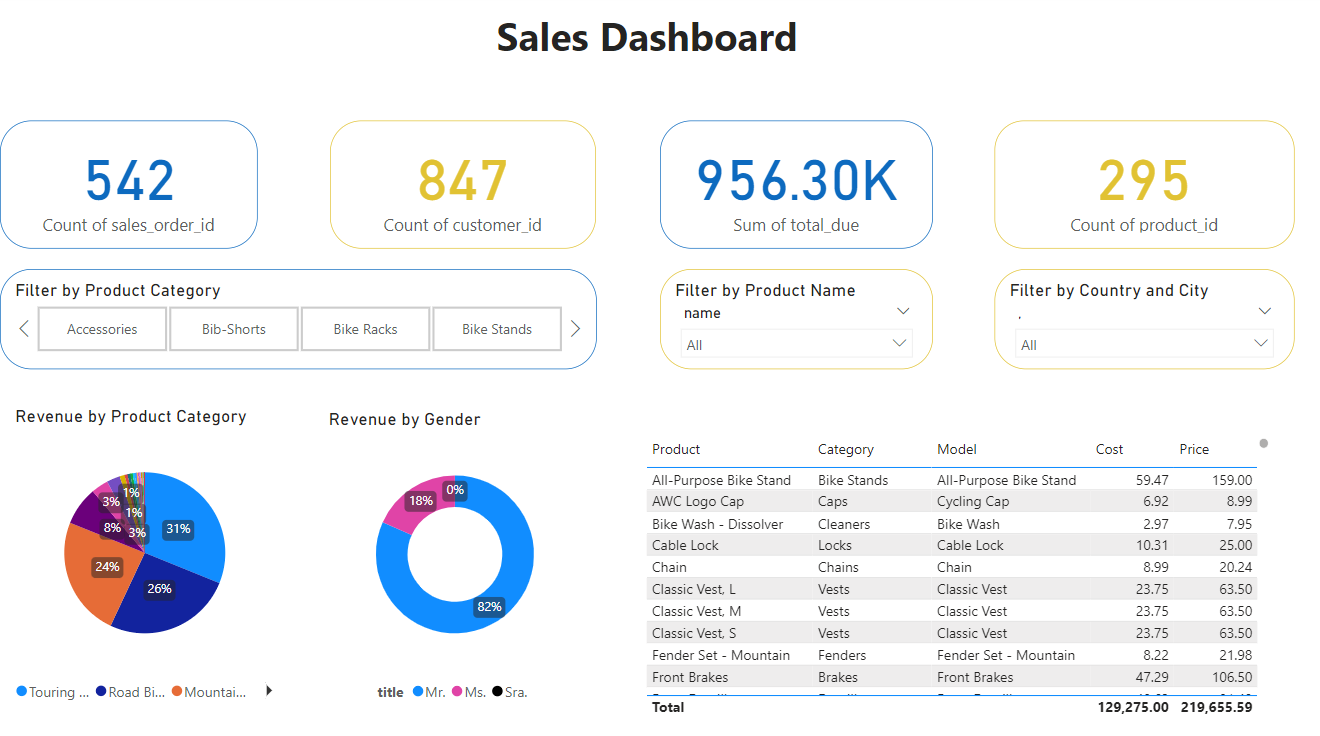

Layout of this report page (visuals, bound fields, positions):
{"tool":"powerbi","page":{"name":"Page 1","canvas":[1280,720],"ordinal":0},"visuals":[{"type":"card","fields":{"Values":["CountNonNull(salesorderdetail.sales_order_id)"]},"box":[8.3,121.5,246.6,122.4],"z":0},{"type":"slicer","title":"Filter by Product Name","fields":{"Values":["productcategory.name"]},"box":[640.5,264.1,261.3,95.7],"z":1000},{"type":"slicer","title":"Filter by Country and City","fields":{"Values":["address.country_region","address.city"]},"box":[960.7,264.1,287.1,95.7],"z":2000},{"type":"slicer","title":"Filter by Product Category","fields":{"Values":["productcategory.name"]},"box":[8.3,264.1,571.4,95.7],"z":3000},{"type":"card","fields":{"Values":["Sum(salesorderheader.total_due)"]},"box":[640.5,121.5,261.3,122.4],"z":4000},{"type":"card","fields":{"Values":["CountNonNull(product.product_id)"]},"box":[960.7,121.5,287.1,122.4],"z":5000},{"type":"card","fields":{"Values":["CountNonNull(customer.customer_id)"]},"box":[324.8,121.5,254.9,122.4],"z":7000},{"type":"pieChart","title":"Revenue by Product Category","fields":{"Y":["Sum(salesorderdetail.line_total)"],"Category":["productcategory.name"]},"box":[8.3,384.6,277.9,312.9],"z":8000},{"type":"donutChart","title":"Revenue by Gender","fields":{"Category":["customer.title"],"Y":["Sum(salesorderheader.total_due)"]},"box":[308.3,387.4,271.5,310.1],"z":9000},{"type":"tableEx","fields":{"Values":["product.name","productcategory.name","productmodel.name","Sum(product.standard_cost)","Sum(product.list_price)"]},"box":[621.8,420.8,606,277.2],"z":9001},{"type":"textbox","box":[8.6,10.1,1239.3,87.6],"z":9002}]}

Visuals, with their boxes in screenshot pixels (x1, y1, x2, y2), scaled from the page's 1280x720 canvas onto the 1320x736 screenshot:
card - CountNonNull(salesorderdetail.sales_order_id): box(9, 124, 263, 249)
"Filter by Product Name" slicer: box(661, 270, 930, 368)
"Filter by Country and City" slicer: box(991, 270, 1287, 368)
"Filter by Product Category" slicer: box(9, 270, 598, 368)
card - Sum(salesorderheader.total_due): box(661, 124, 930, 249)
card - CountNonNull(product.product_id): box(991, 124, 1287, 249)
card - CountNonNull(customer.customer_id): box(335, 124, 598, 249)
"Revenue by Product Category" pieChart: box(9, 393, 295, 713)
"Revenue by Gender" donutChart: box(318, 396, 598, 713)
tableEx - product.name x productcategory.name: box(641, 430, 1266, 714)
textbox: box(9, 10, 1287, 100)
